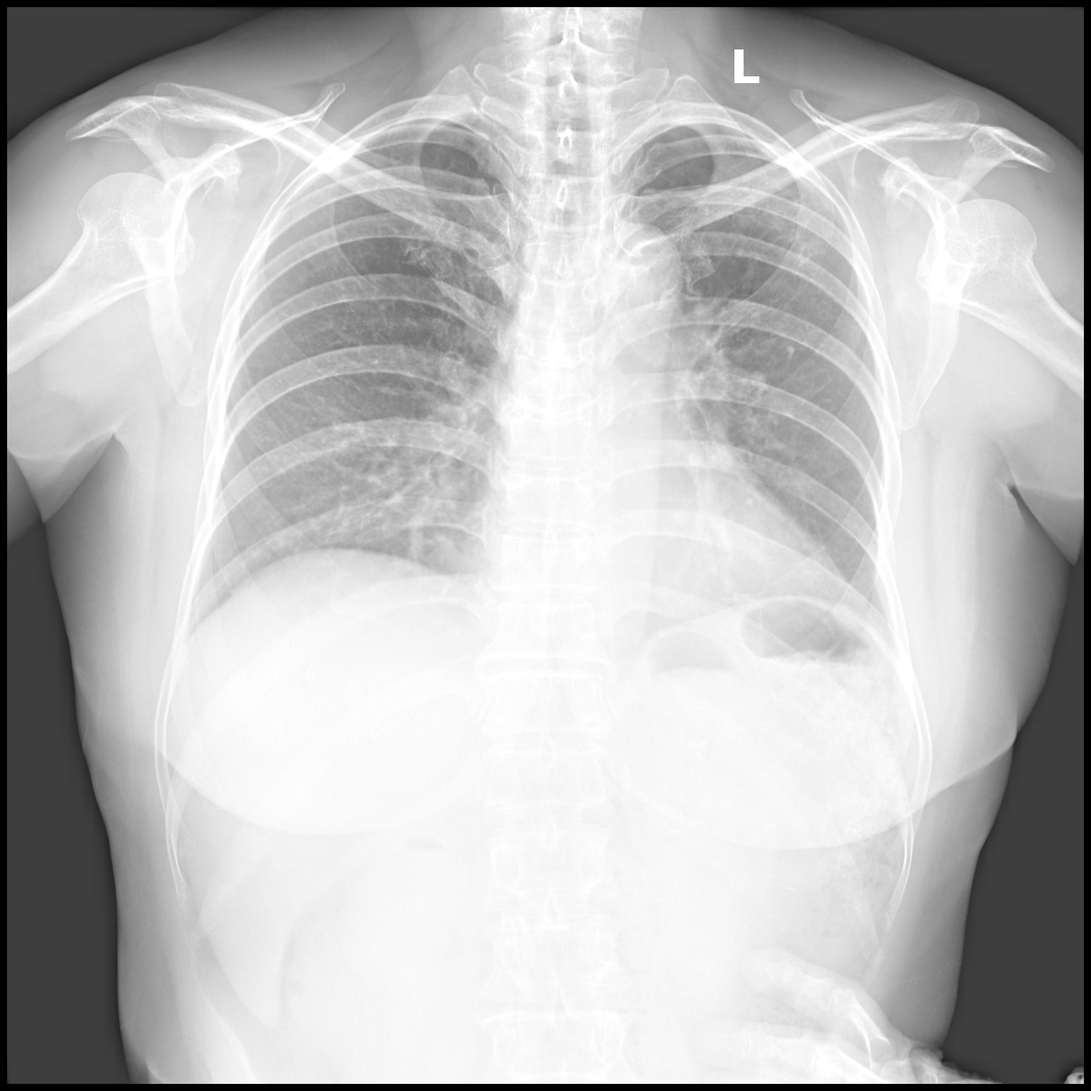Cardiomegaly: (455, 504, 854, 615)
Pulmonary fibrosis: (743, 180, 835, 273)
